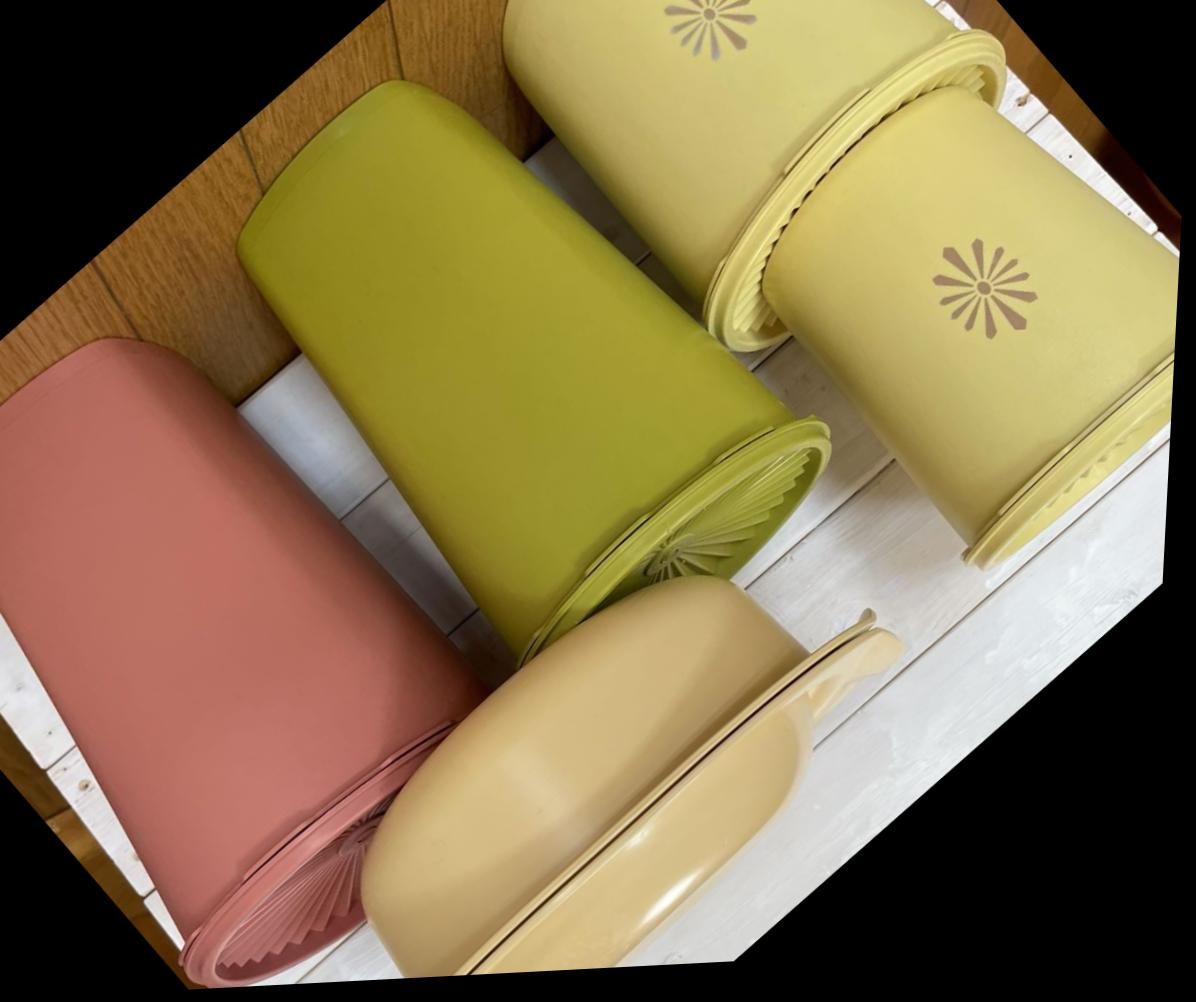plastic: (141, 0, 883, 748), (0, 271, 561, 1002), (230, 456, 959, 987), (701, 15, 1192, 611), (414, 0, 1050, 378)
